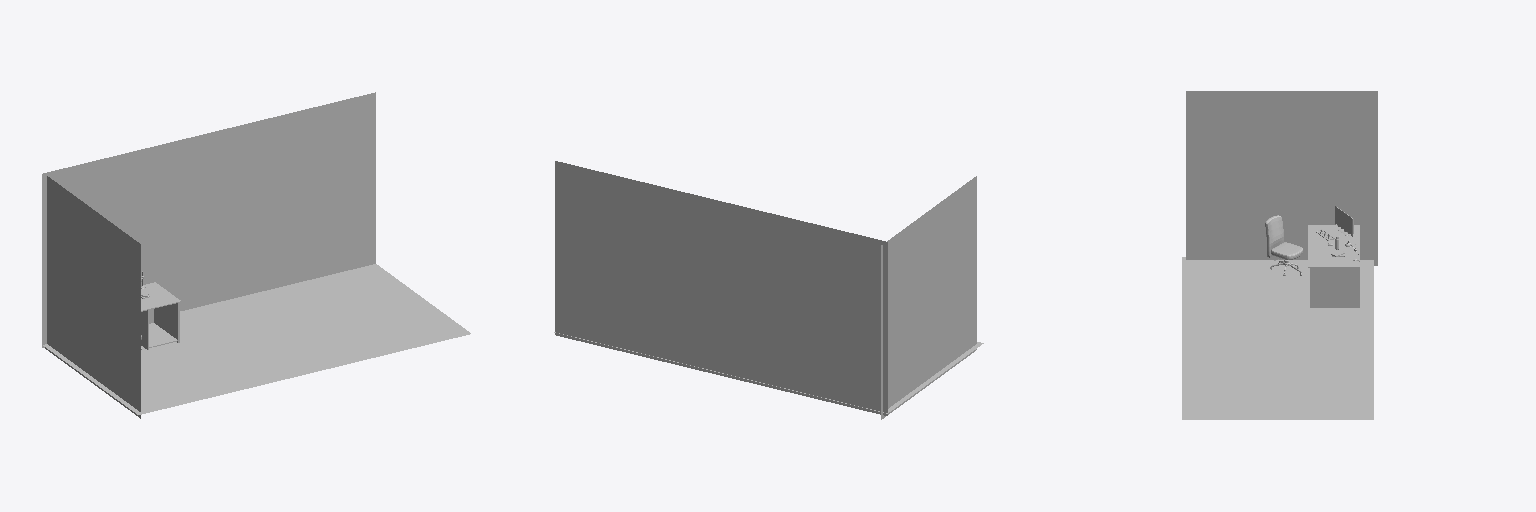
File: UpdatedScene1.obj
The picture shows the model from 3 angles: view 1: azimuth 30°, elevation 25°; view 2: azimuth 150°, elevation 25°; view 3: azimuth 270°, elevation 25°; orthographic projection.
Visible parts, largest first — view 1: Plane.001, Plane, Plane.002, ComputerDesk1; view 2: Plane.001, Plane.002, Plane; view 3: Plane.002, Plane, ComputerDesk1, Cube.069_Cube.000.
Boxes of the visible parts, <box> form: Plane.001: <box>42,92,375,347</box>; Plane: <box>43,264,470,414</box>; Plane.002: <box>45,176,140,418</box>; ComputerDesk1: <box>141,282,180,349</box>; Plane.001: <box>555,161,887,415</box>; Plane.002: <box>881,176,976,419</box>; Plane: <box>554,332,983,413</box>; Plane.002: <box>1186,91,1377,265</box>; Plane: <box>1182,257,1373,419</box>; ComputerDesk1: <box>1308,225,1359,307</box>; Cube.069_Cube.000: <box>1265,215,1283,257</box>.
Size of the model in its own units: 120 by 61.12 by 61.32.